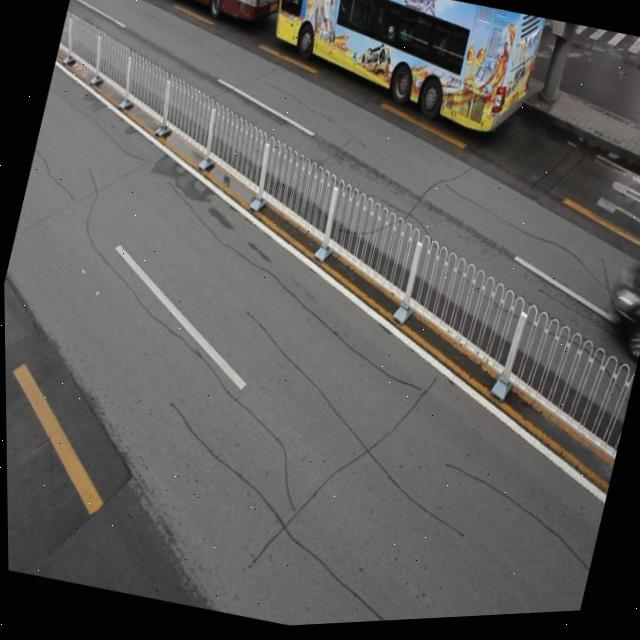van: (254, 0, 544, 157), (129, 0, 287, 28)
